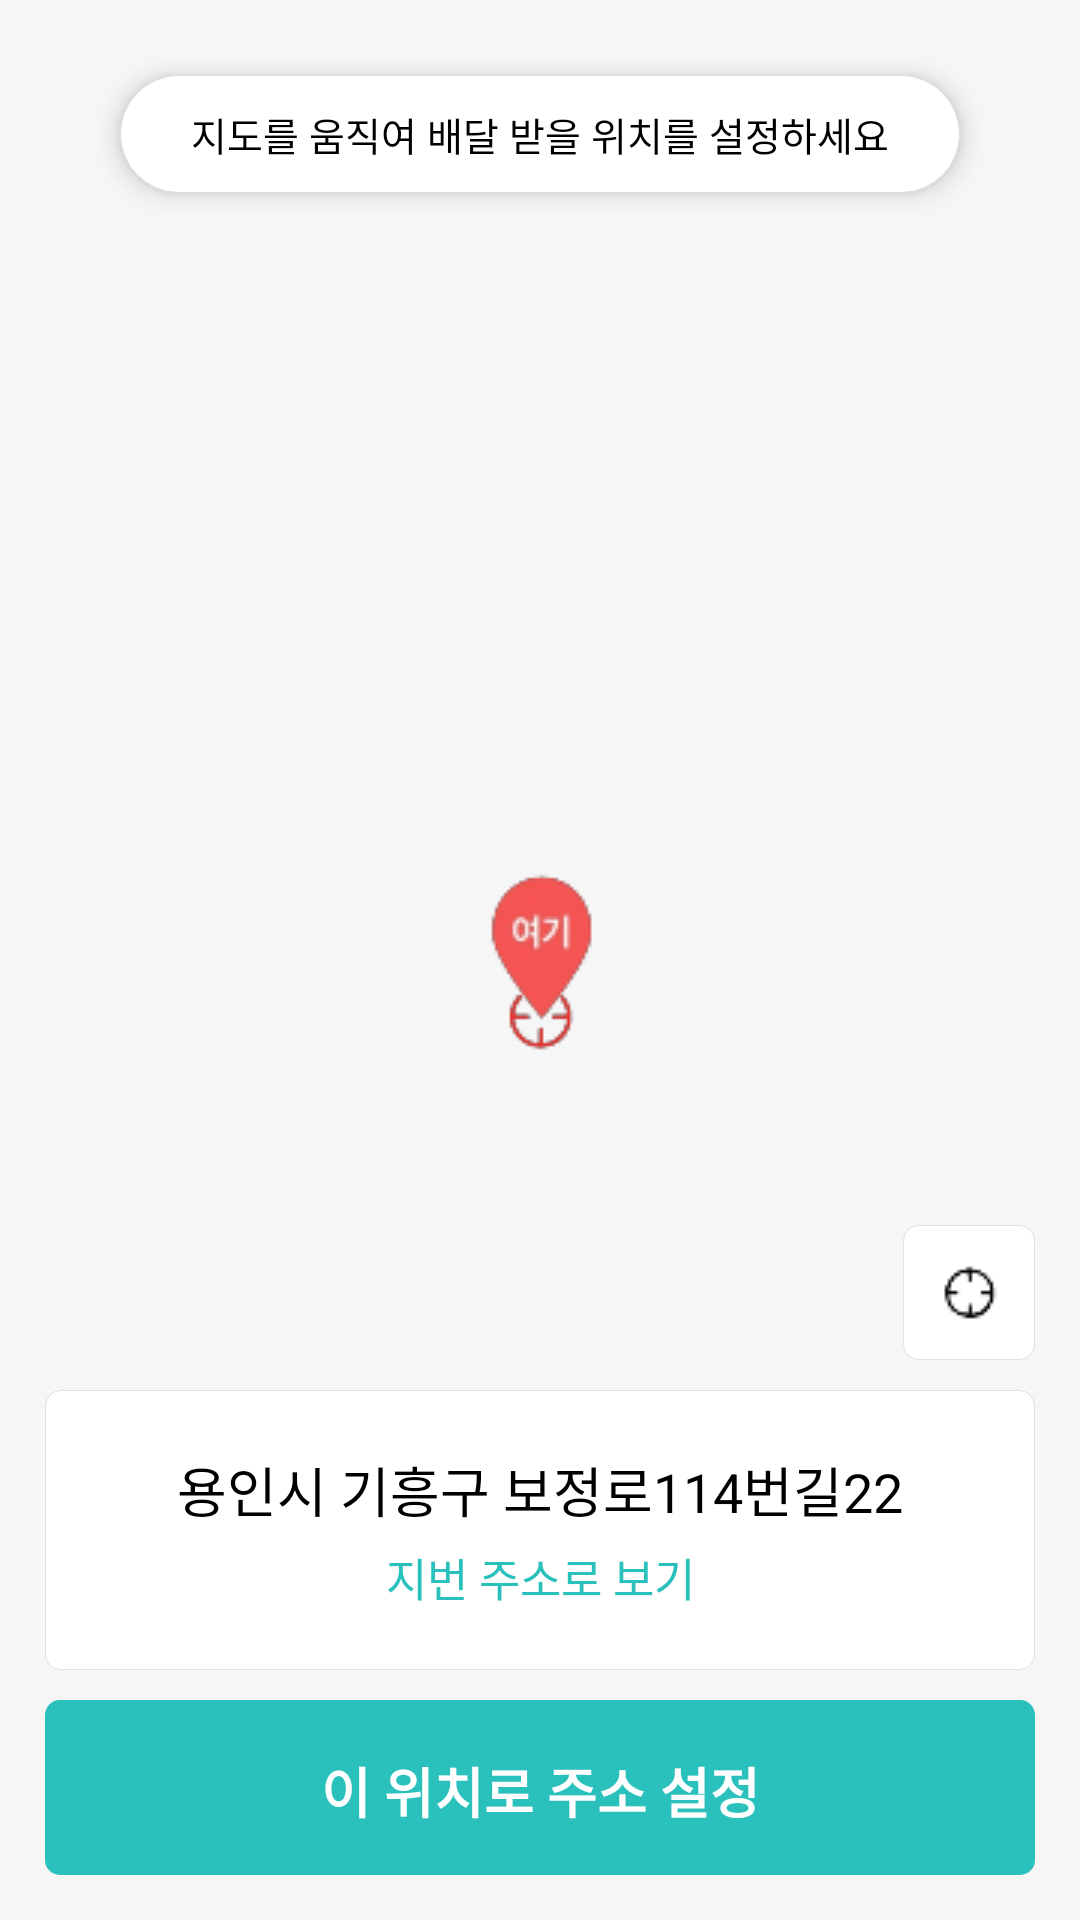

Icons on this 1080 × 1920 Android screen, each with its box as (x1,y1,x2,y2):
location: (944,1266,996,1319)
marker: (491,875,592,1050)
